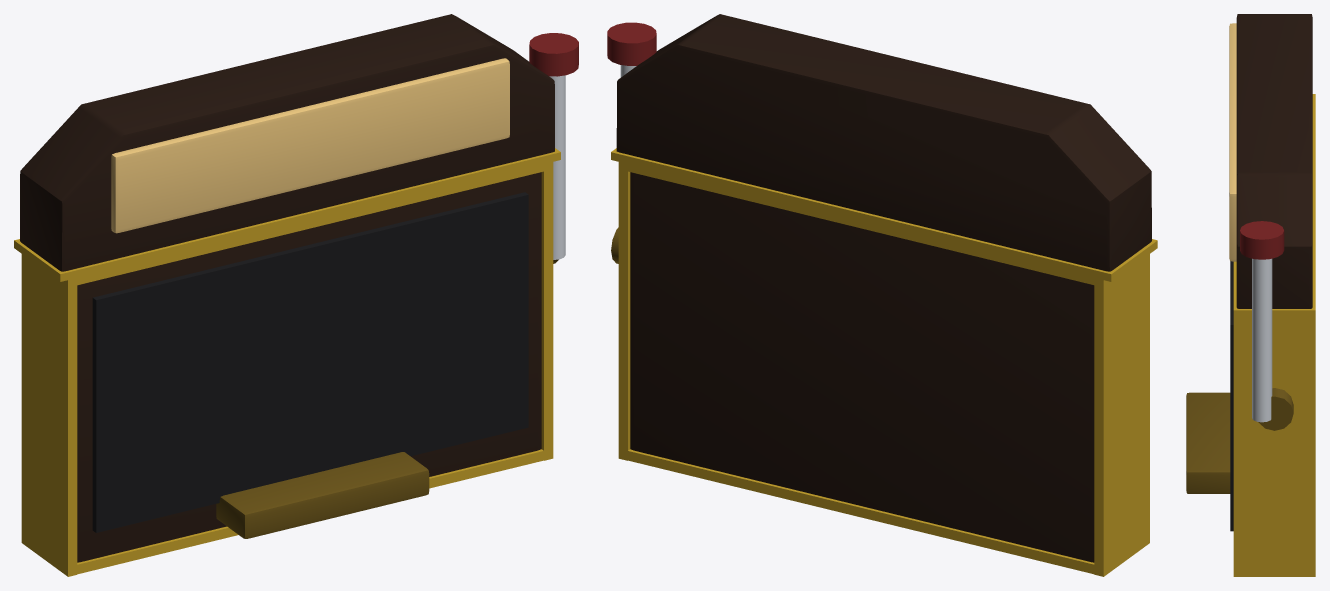
Rendered from slot_machine.glb.
3 renders of one model, left to right at view 1: azimuth 30°, elevation 25°; view 2: azimuth 150°, elevation 25°; view 3: azimuth 270°, elevation 25°, orthographic. The views are drawn at different scales.
Visible parts, largest first — view 1: Cabinet, Marquee, LampMarquee, Lever; view 2: Cabinet, Marquee, Lever; view 3: Cabinet, Marquee, Lever, LampMarquee.
Boxes of the visible parts, x1,y1,x2,y2 form: Cabinet: (21, 160, 553, 576); Marquee: (14, 14, 560, 281); LampMarquee: (111, 58, 509, 233); Lever: (529, 33, 578, 263); Cabinet: (618, 161, 1149, 576); Marquee: (611, 14, 1157, 281); Lever: (607, 22, 656, 263); Cabinet: (1186, 261, 1315, 576); Marquee: (1233, 14, 1315, 317); Lever: (1240, 221, 1293, 430); LampMarquee: (1229, 23, 1236, 261).
Size of the model in its own units: 0.86 by 0.66 by 0.205.
